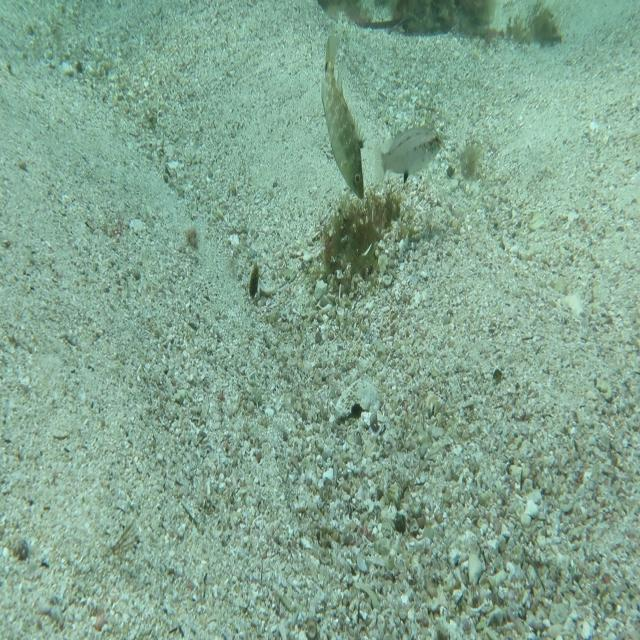INSF: (320, 22, 369, 203)
core_nest: (339, 196, 388, 241)
female: (372, 113, 448, 186)
nest: (315, 180, 408, 304)
